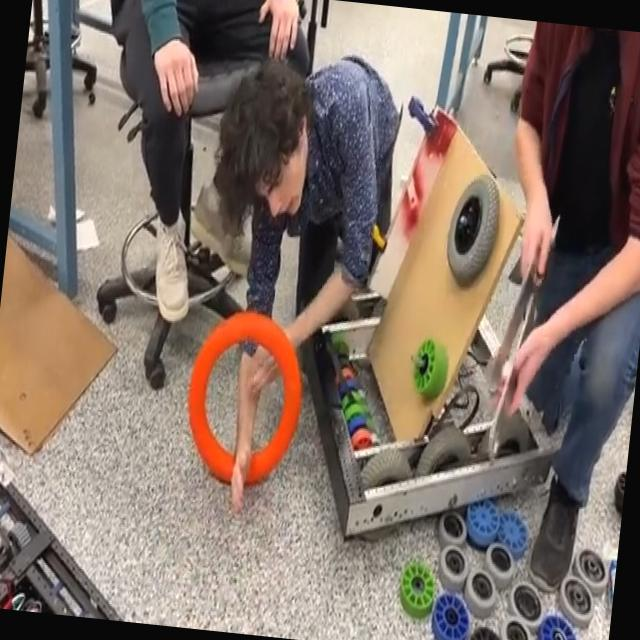note: (176, 301, 314, 498)
